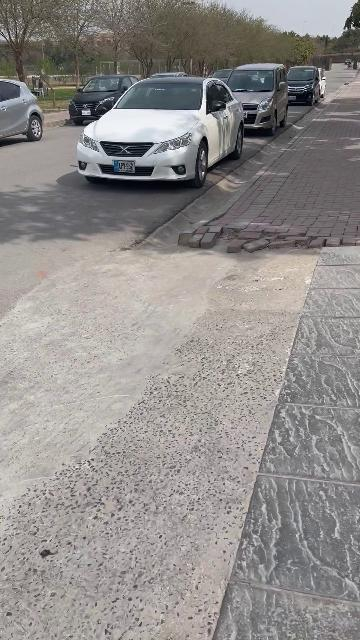plate: (114, 161, 135, 173)
